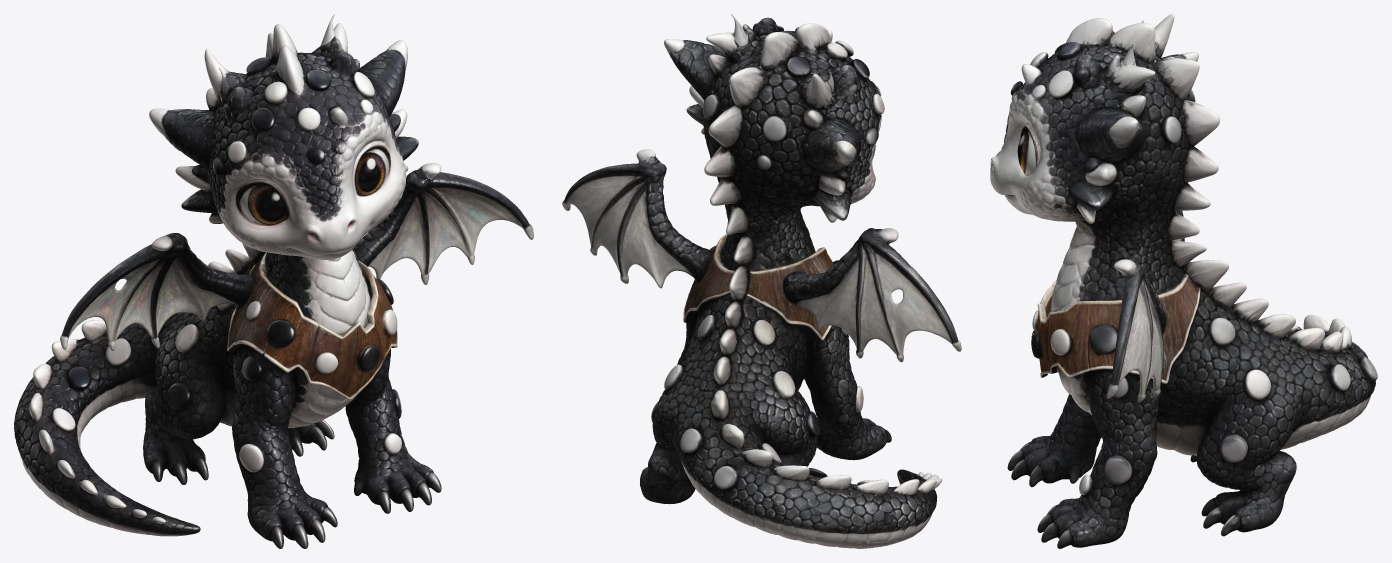
File: stage_ii.glb
The picture shows the model from 3 angles, left to right: view 1: azimuth 30°, elevation 25°; view 2: azimuth 150°, elevation 25°; view 3: azimuth 270°, elevation 25°; orthographic projection. The views are drawn at different scales.
Parts seen in each view (by area): view 1: tripo_node_4bca556e-2276-475b-8795-7392ae830d42; view 2: tripo_node_4bca556e-2276-475b-8795-7392ae830d42; view 3: tripo_node_4bca556e-2276-475b-8795-7392ae830d42.
Boxes of the visible parts, x1,y1,x2,y2 form: tripo_node_4bca556e-2276-475b-8795-7392ae830d42: (14, 14, 533, 548); tripo_node_4bca556e-2276-475b-8795-7392ae830d42: (562, 14, 961, 548); tripo_node_4bca556e-2276-475b-8795-7392ae830d42: (990, 14, 1377, 548).
Size of the model in its own units: 0.9891 by 1 by 0.7398.
Materials: 1 (1 with a texture image).
